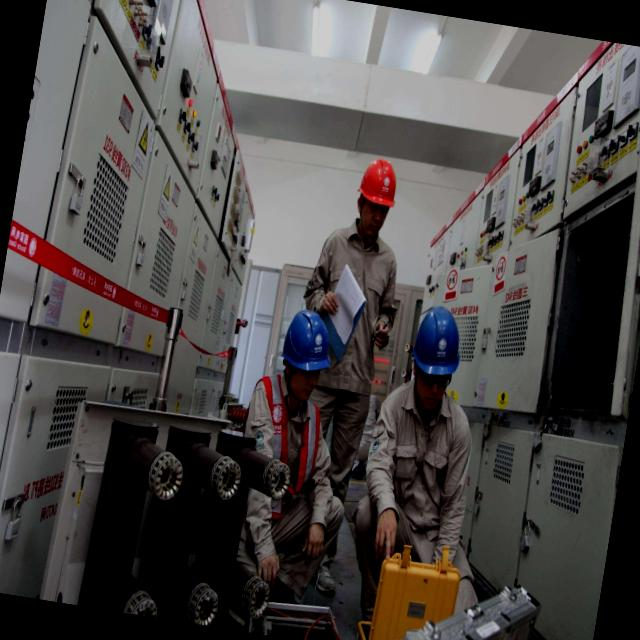helmet: (406, 298, 467, 378), (281, 308, 334, 376), (357, 158, 402, 208)
no-vest: (364, 389, 483, 551), (304, 228, 398, 396)
